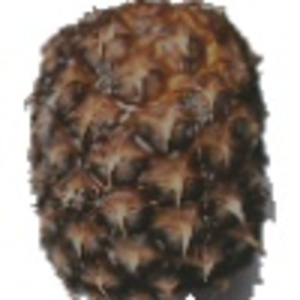abacaxi: (22, 1, 276, 299)
